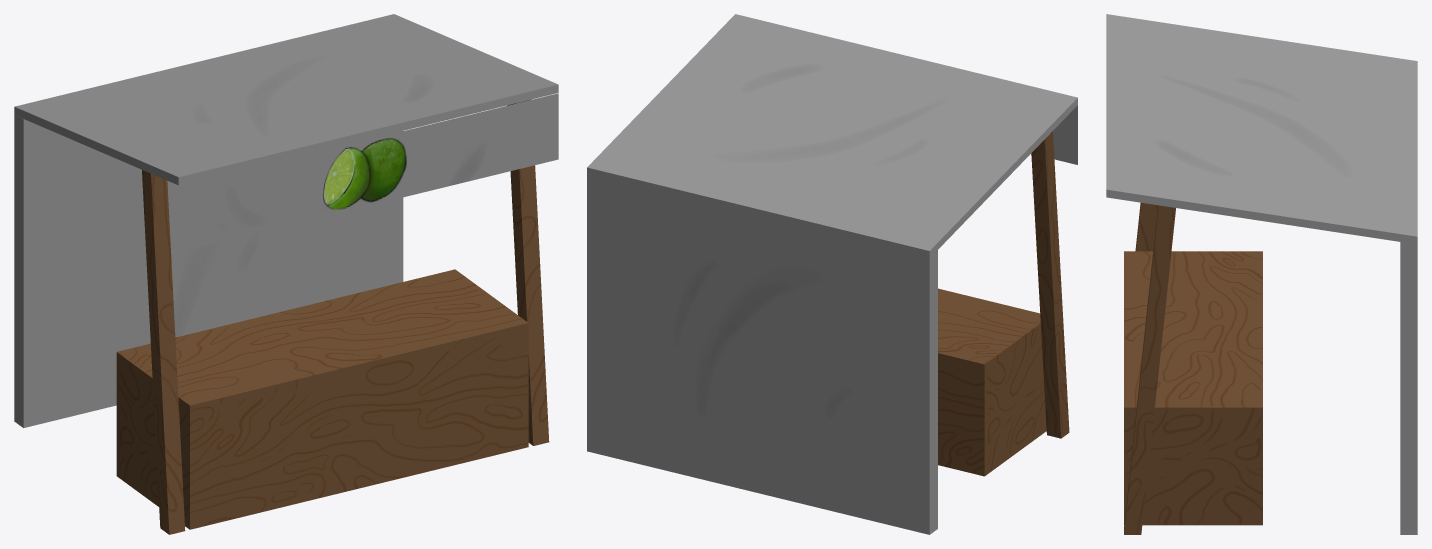
File: lime_rack.png.fbx
3 renders of one model, left to right at view 1: azimuth 30°, elevation 25°; view 2: azimuth 150°, elevation 25°; view 3: azimuth 270°, elevation 25°, orthographic. The views are drawn at different scales.
Visible parts, largest first — view 1: Market_stall_rack; view 2: Market_stall_rack; view 3: Market_stall_rack.
Part boxes in pixels (x1,y1,x2,y2): Market_stall_rack: (14,14,558,534); Market_stall_rack: (587,14,1077,534); Market_stall_rack: (1106,14,1417,534).
Bounding box in the file's own units: 24 × 22.01 × 18.
1 material, 1 textured.
